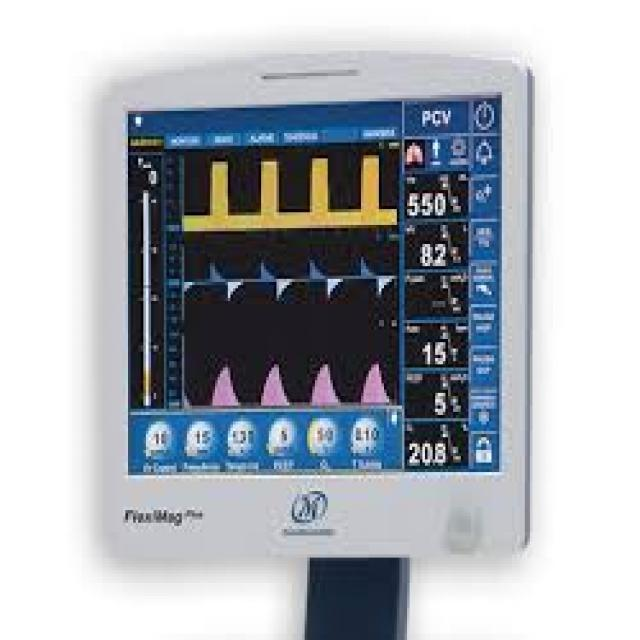cardiac_monitor: (84, 60, 546, 559)
